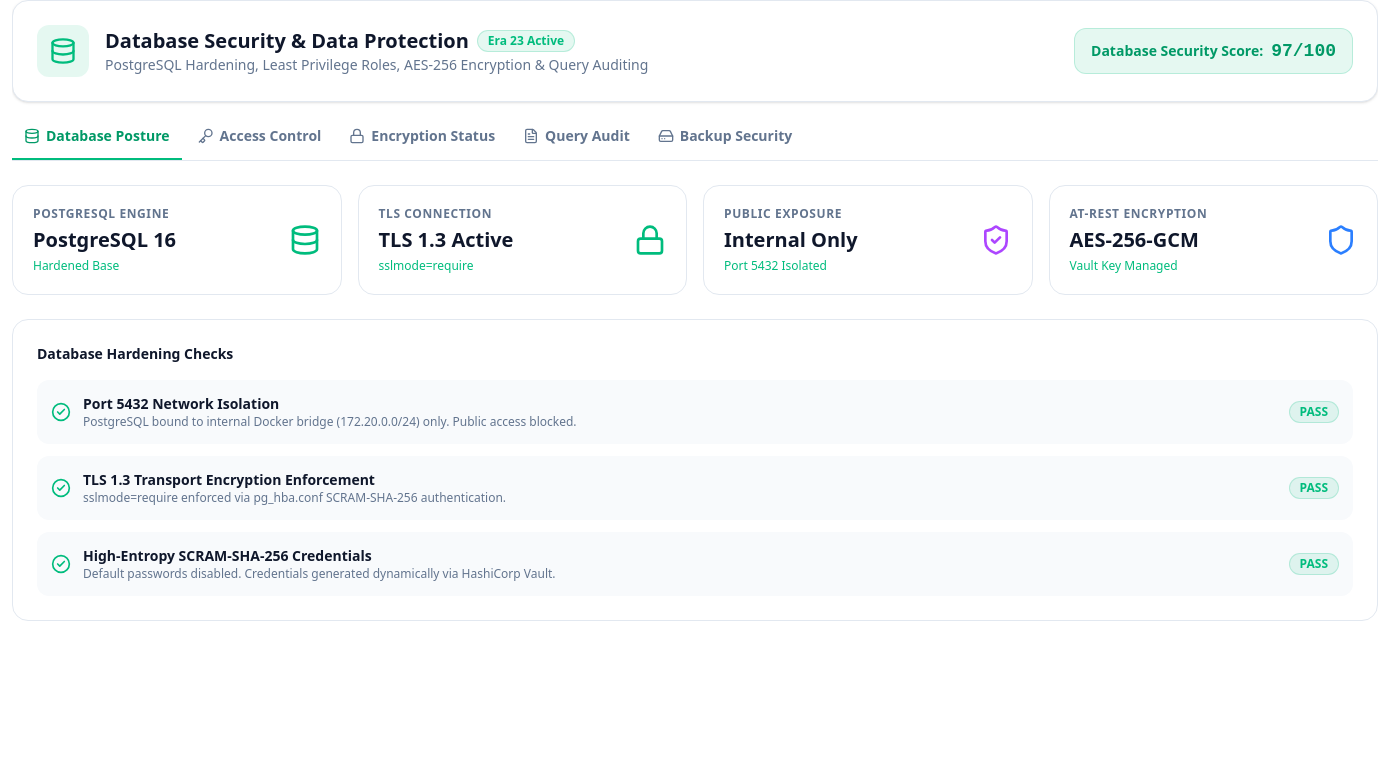
Scenario: DatabaseSecurityDashboard › clicking Backup Security tab shows backup status and restore test
Step 1. Click the button "Backup Security" → (725, 143), box x1=646 y1=126 x2=804 y2=160
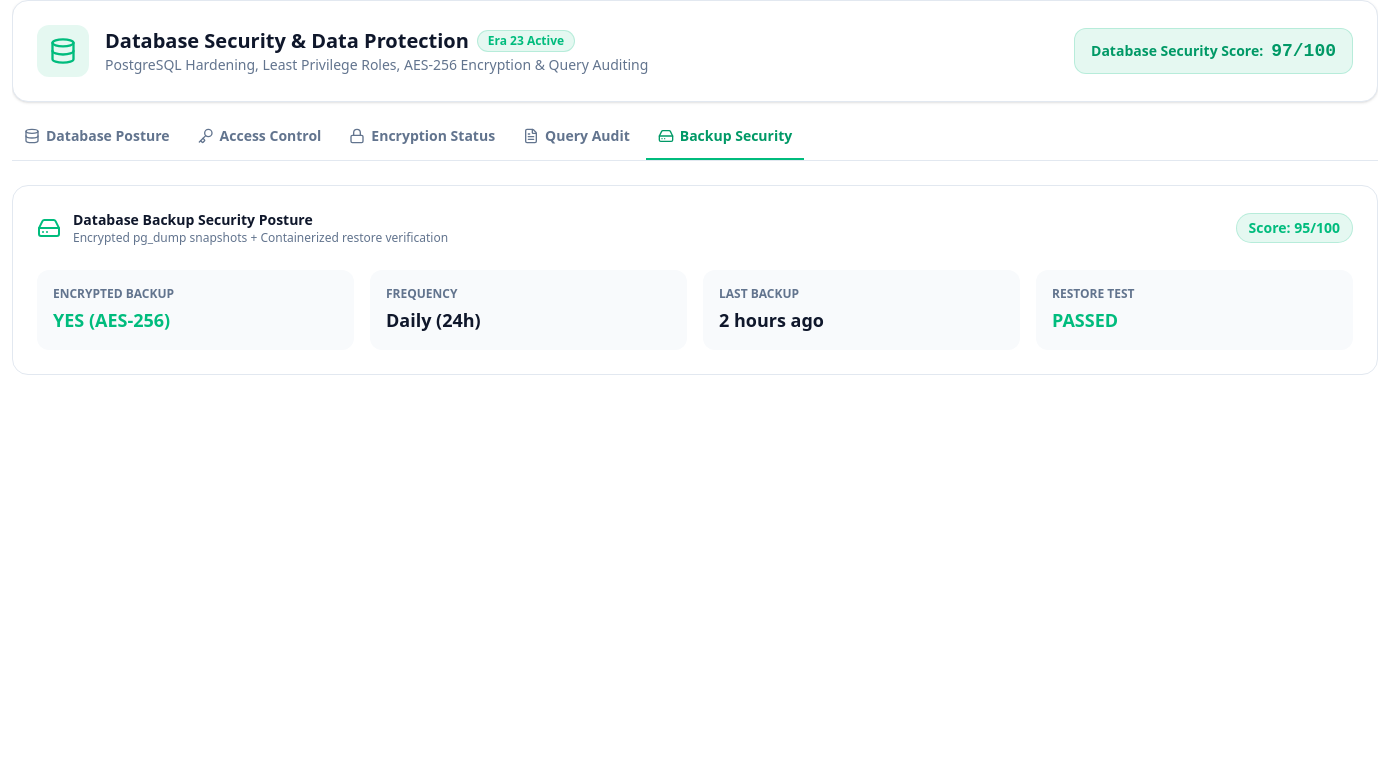
Expected: the heading "Database Backup Security Posture" is shown, x1=73 y1=210 x2=313 y2=229
Expected: the text "PASSED" is shown, x1=1052 y1=308 x2=1118 y2=332
